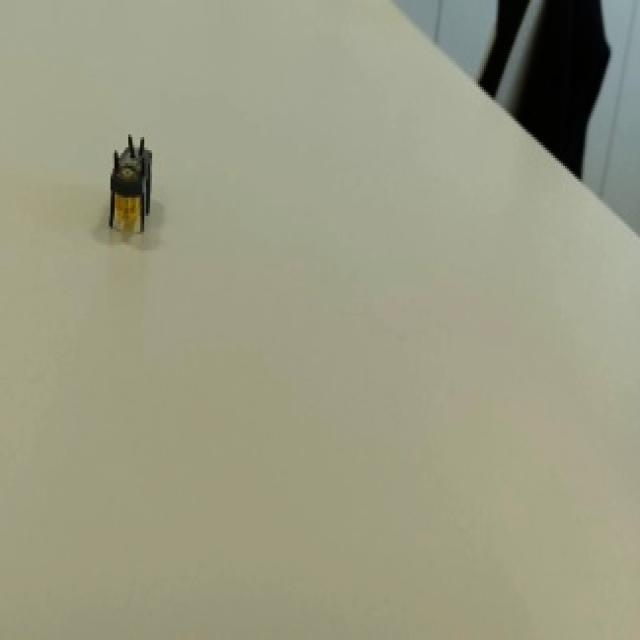6_NanoBug_GrisOscuro: (72, 118, 172, 262)
